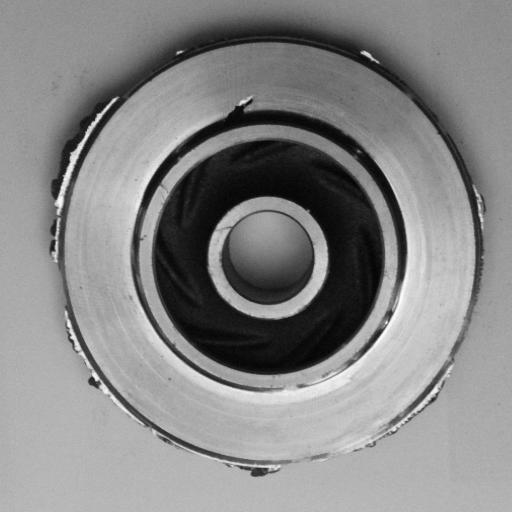casting_with_burr: (47, 26, 490, 482)
crack: (215, 89, 268, 132)
scratch: (262, 365, 363, 407), (374, 262, 411, 348)
